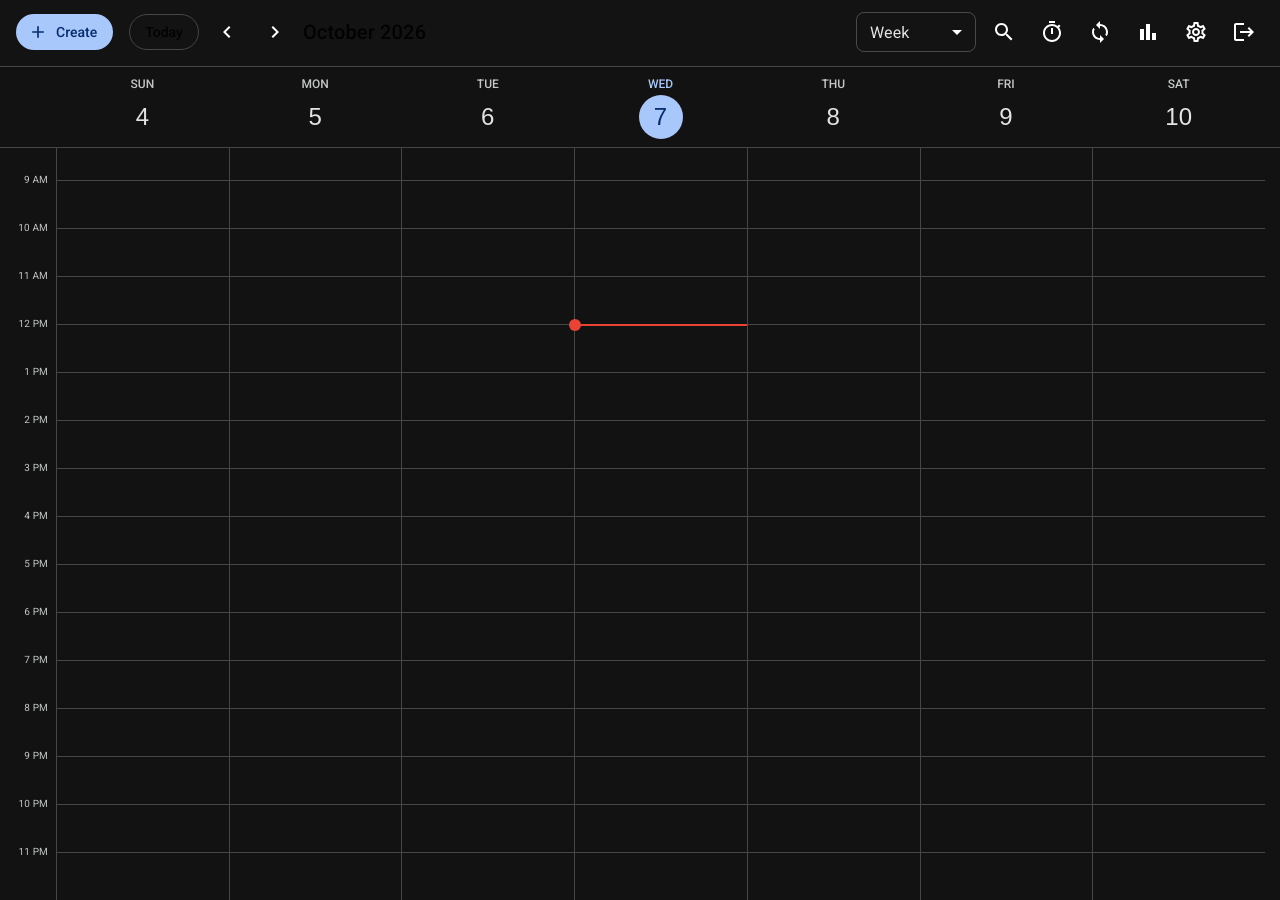
Scenario: keyboard shortcuts (§5.7) › searches (/) and opens the picked entry on its day
(page scrolled)
Type keys "/"
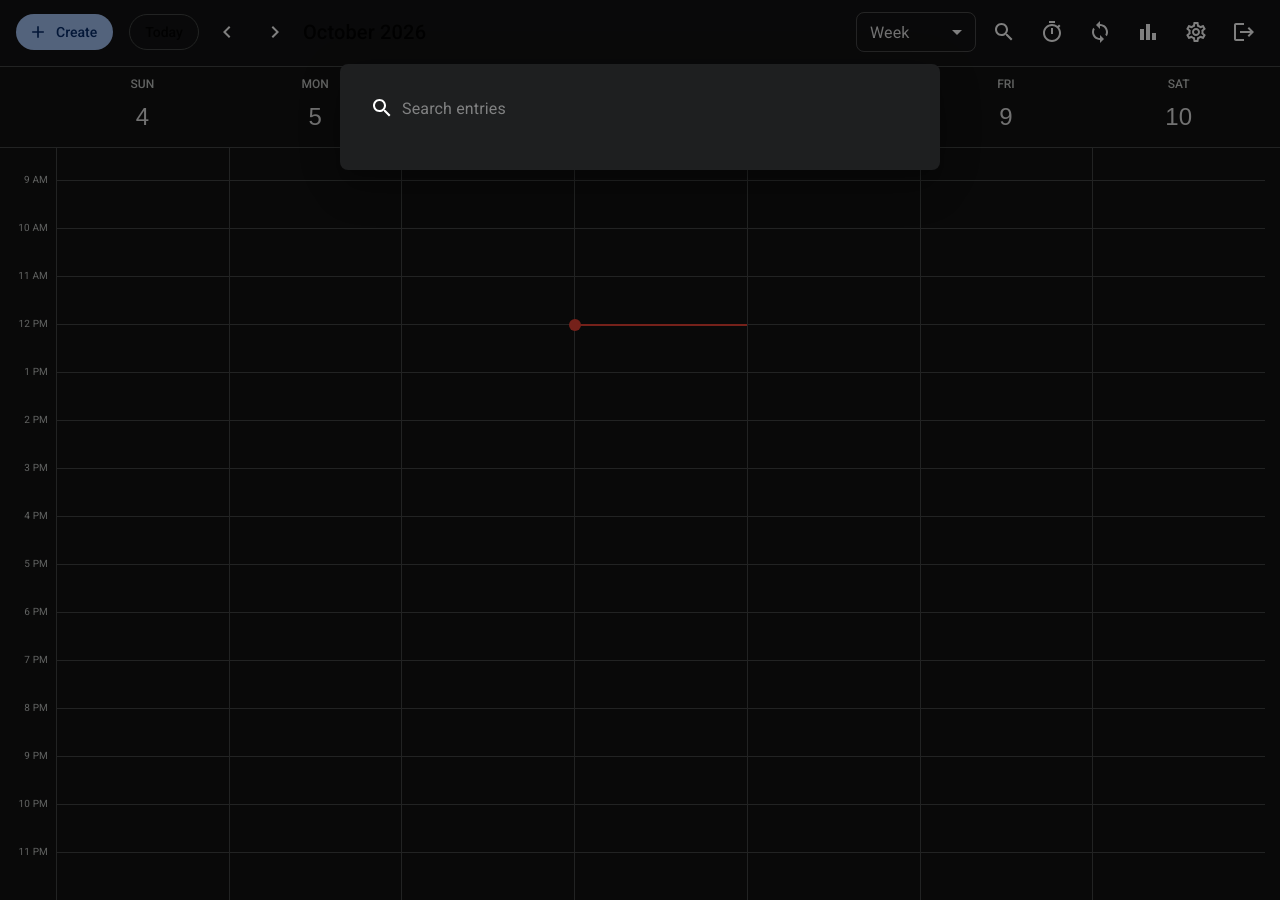
In the field labelled "Search entries": (663, 108) [402,80,924,136], type "manga"
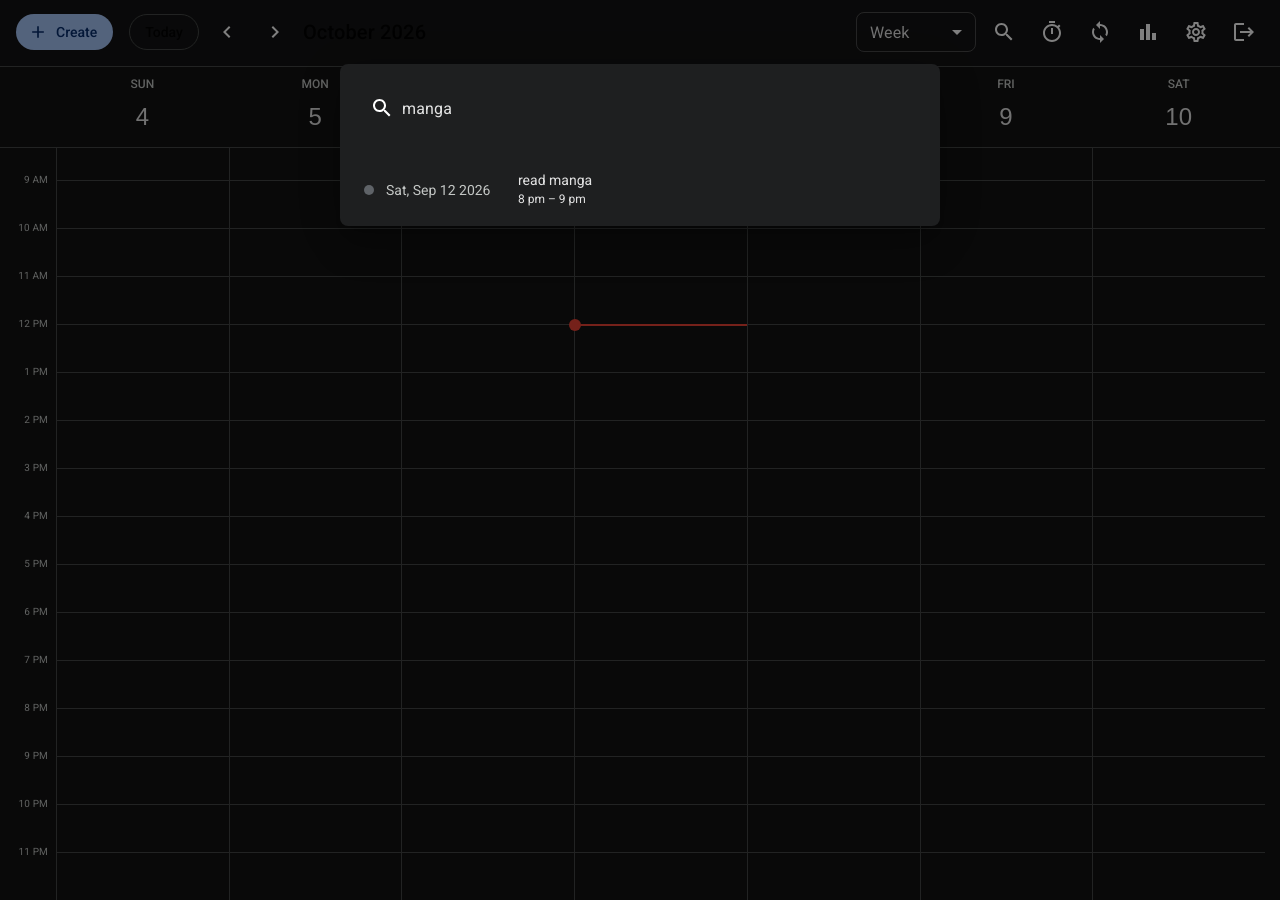
Check: the text "Sat, Sep 12 2026" is shown, box [386,180,506,200]
Press Enter
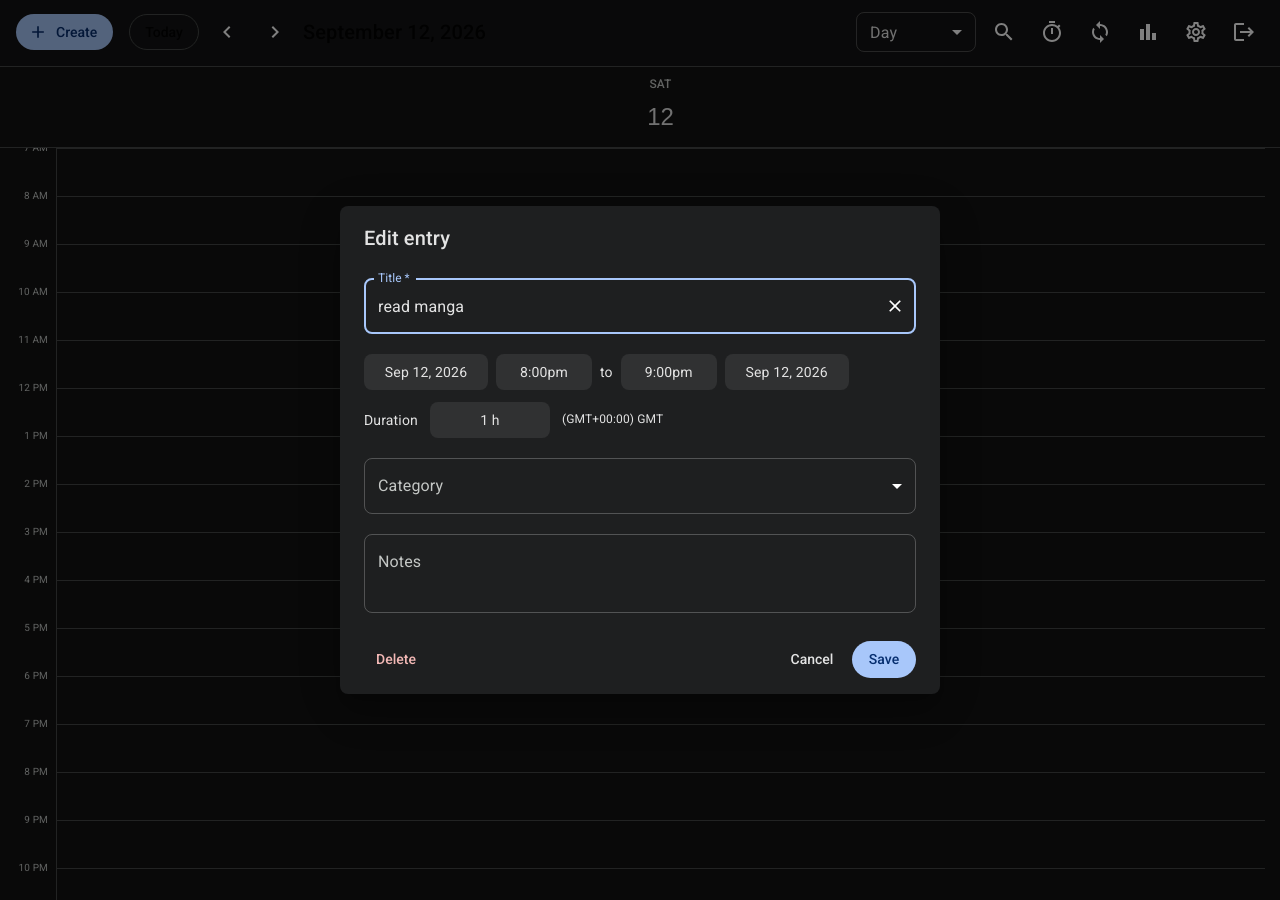
Check: the dialog "Edit entry" is shown, box [340,206,940,694]
